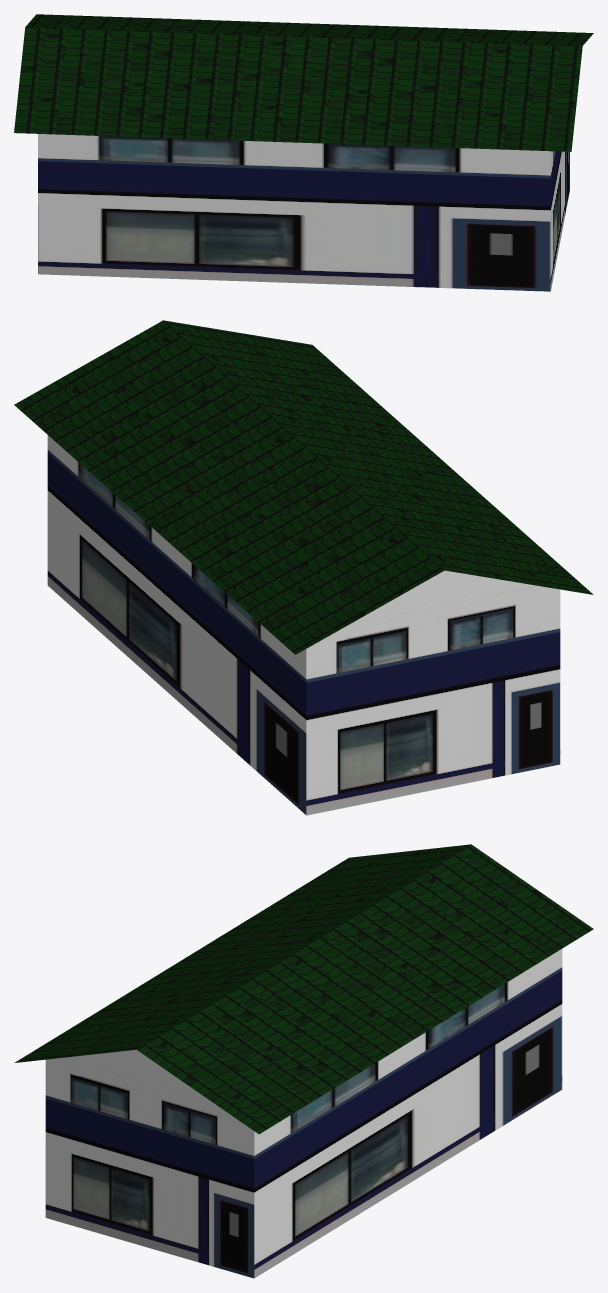
3 views of the same model, one above another, from view 1: azimuth 30°, elevation 25°; view 2: azimuth 150°, elevation 25°; view 3: azimuth 270°, elevation 25° (orthographic). The views are drawn at different scales.
Parts seen in each view (by area): view 1: CityEngineMaterial_2_m, CityEngineMaterial_13_m; view 2: CityEngineMaterial_13_m, CityEngineMaterial_2_m, CityEngineMaterial_3_m; view 3: CityEngineMaterial_2_m, CityEngineMaterial_13_m, CityEngineMaterial_3_m.
Part boxes in pixels (<box>): CityEngineMaterial_2_m: <box>38,134,569,291</box>; CityEngineMaterial_13_m: <box>14,14,593,151</box>; CityEngineMaterial_13_m: <box>14,320,593,654</box>; CityEngineMaterial_2_m: <box>47,435,560,815</box>; CityEngineMaterial_3_m: <box>352,570,537,622</box>; CityEngineMaterial_2_m: <box>45,949,562,1278</box>; CityEngineMaterial_13_m: <box>14,844,593,1134</box>; CityEngineMaterial_3_m: <box>63,1049,209,1100</box>.
Bounding box in the file's own units: 27.64 × 9.63 × 24.48.
